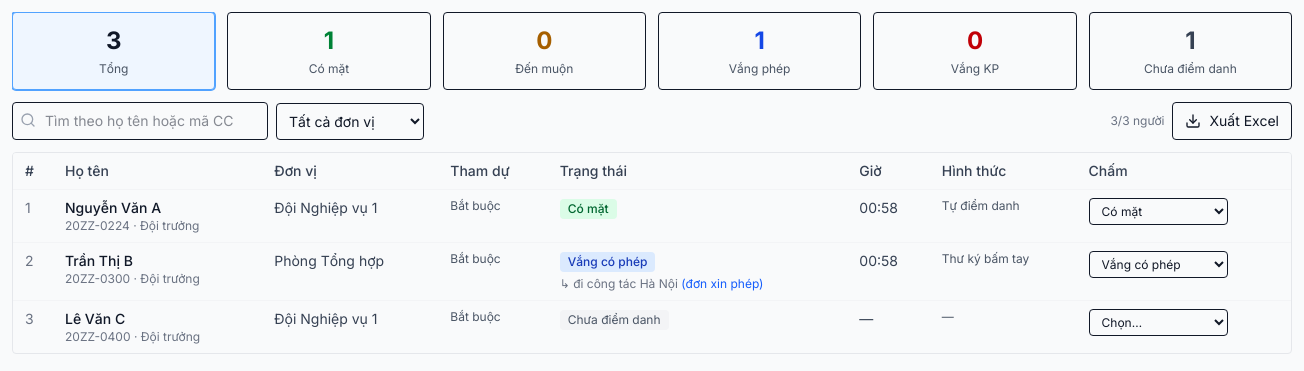
Scenario: BangDiemDanhChiTiet › bấm ô số lọc bảng, bấm lại thì bỏ lọc
Expected: the text "Nguyễn Văn A" is shown, [65,199,161,216]
Click the button "1 Có mặt": {"x": 329, "y": 51} [227,12,431,90]
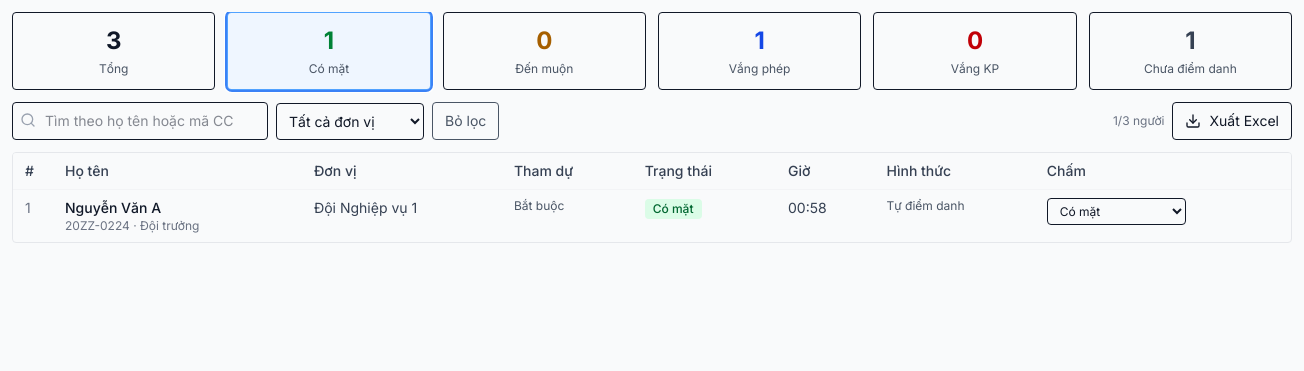
Expected: the text "Nguyễn Văn A" is shown, [65,199,161,216]
Expected: the text "Trần Thị B" is gone
Click the button "1 Có mặt": {"x": 329, "y": 51} [227,12,431,90]
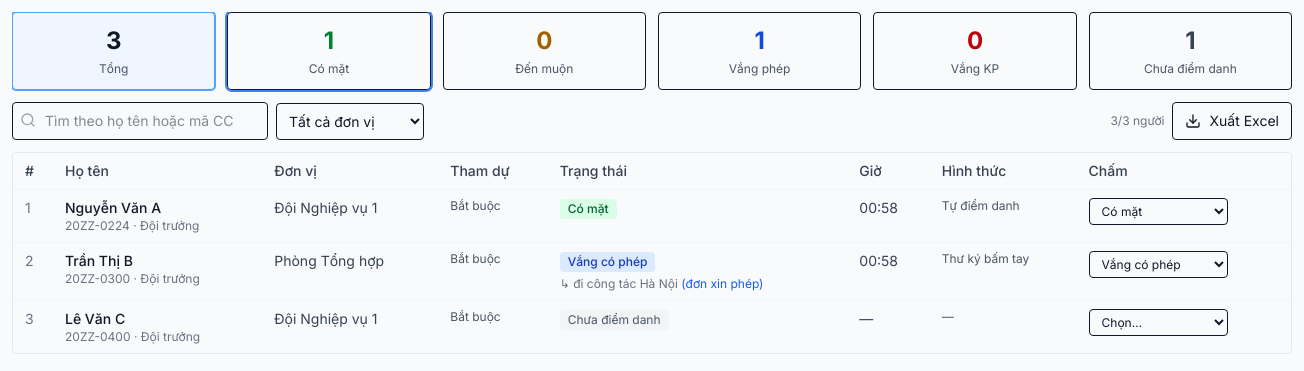
Expected: the text "Trần Thị B" is shown, [65,252,133,269]
